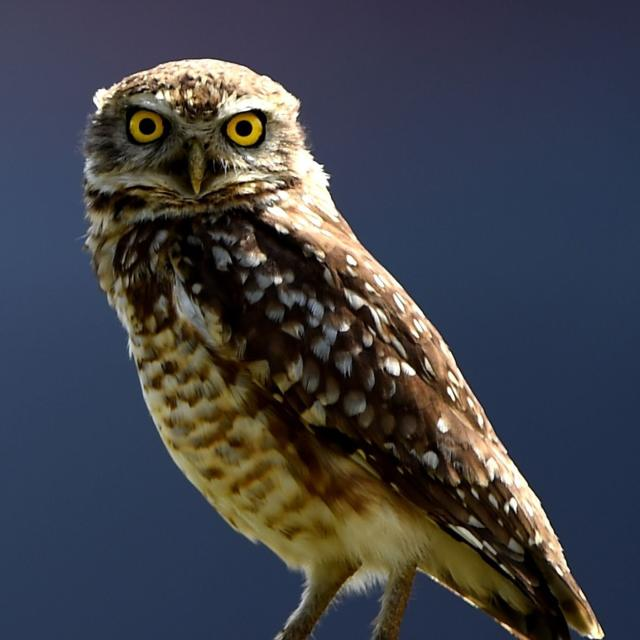Owl: (78, 44, 607, 640)
